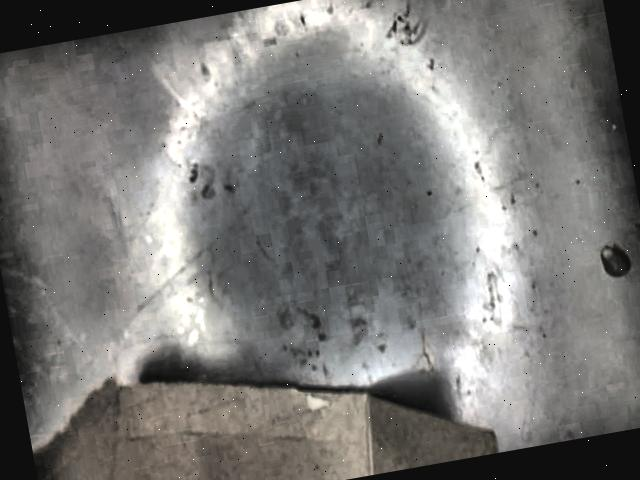Paper: (33, 374, 498, 480)
